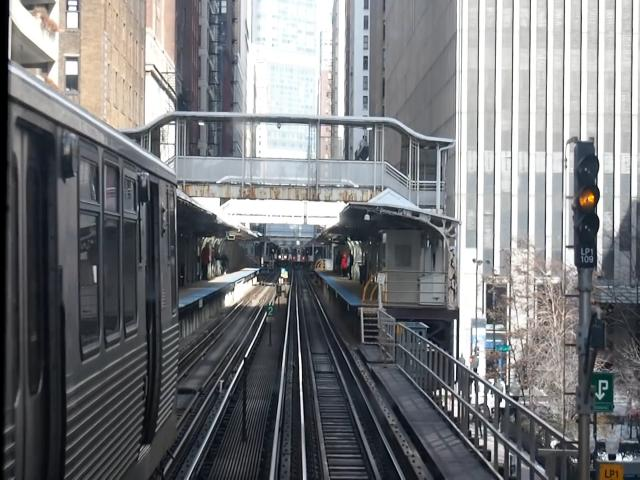signal light: (572, 138, 604, 275)
